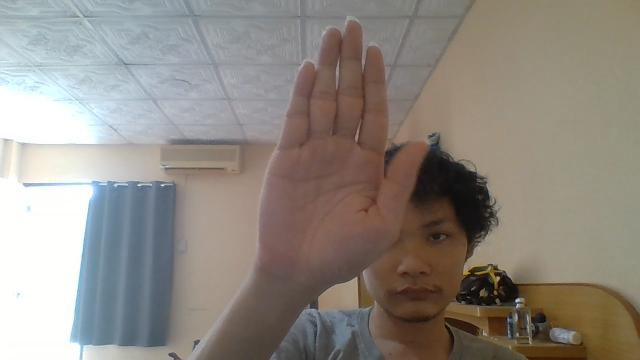Stop: (255, 14, 430, 298)
